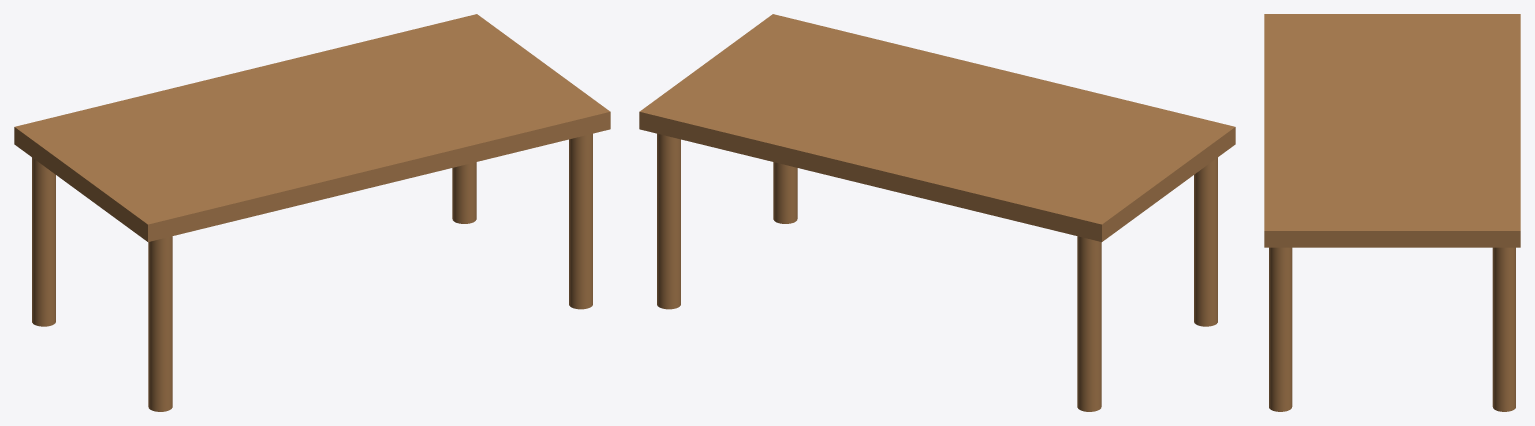
File: coffee-table.gltf
3 renders of one model, left to right at view 1: azimuth 30°, elevation 25°; view 2: azimuth 150°, elevation 25°; view 3: azimuth 270°, elevation 25°, orthographic. The views are drawn at different scales.
Size of the model in its own units: 1.1 by 0.44 by 0.55.
